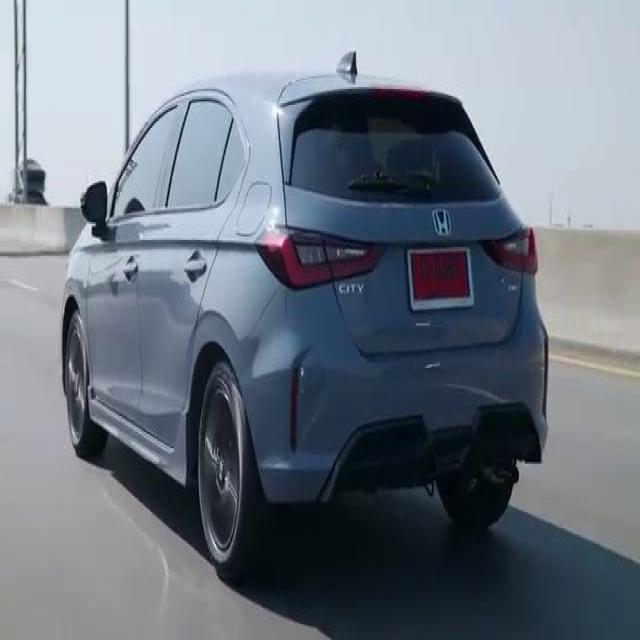Hatchback: (61, 52, 548, 578)
